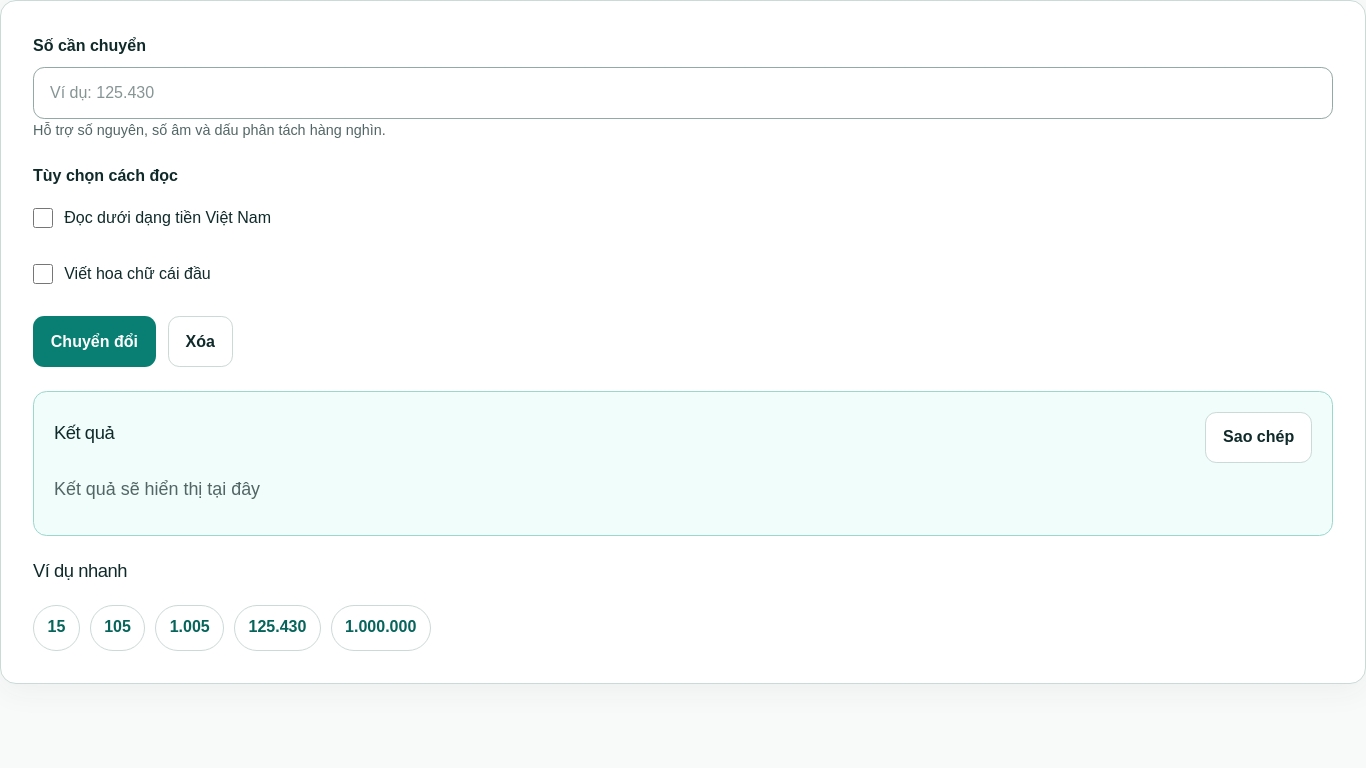
Test: NumberInputForm › loads a quick example
Click the button "1.005" at (190, 628), box [155,604,224,650]
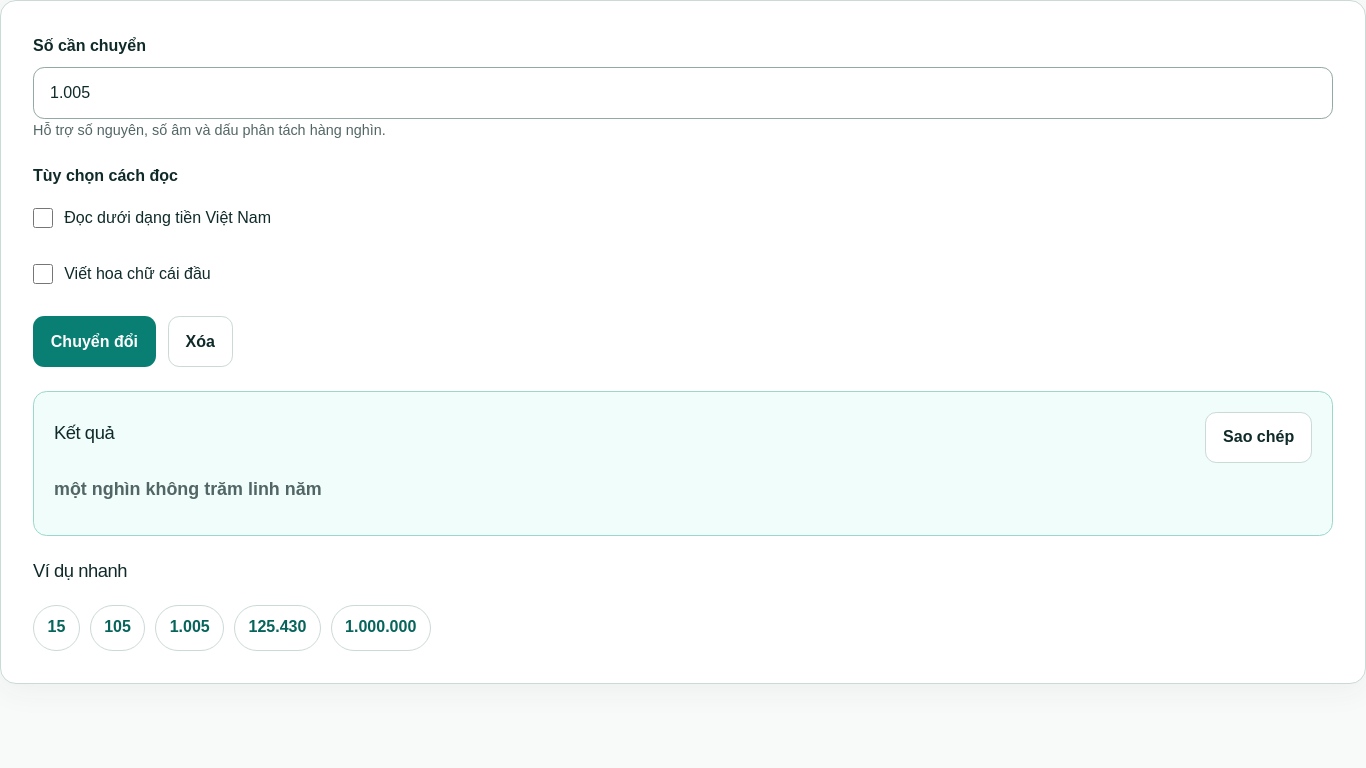
Now the text "một nghìn không trăm linh năm" is shown, box [54,479,322,499]
